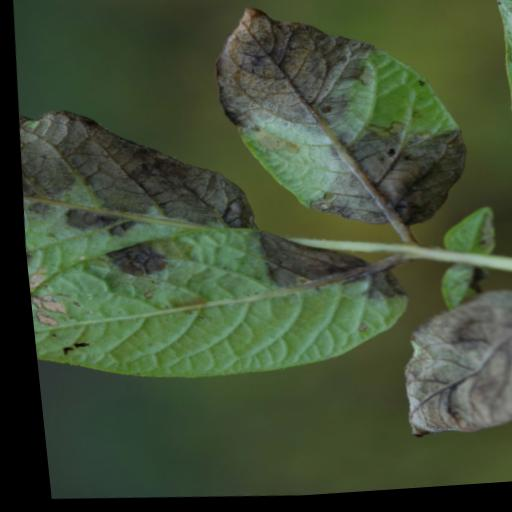Late Blight: (9, 87, 441, 399), (198, 0, 479, 246)
